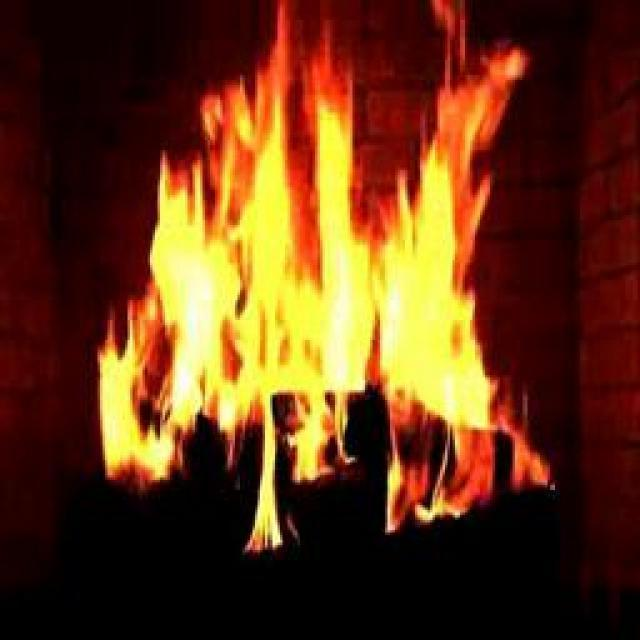Fire: (134, 88, 498, 486)
